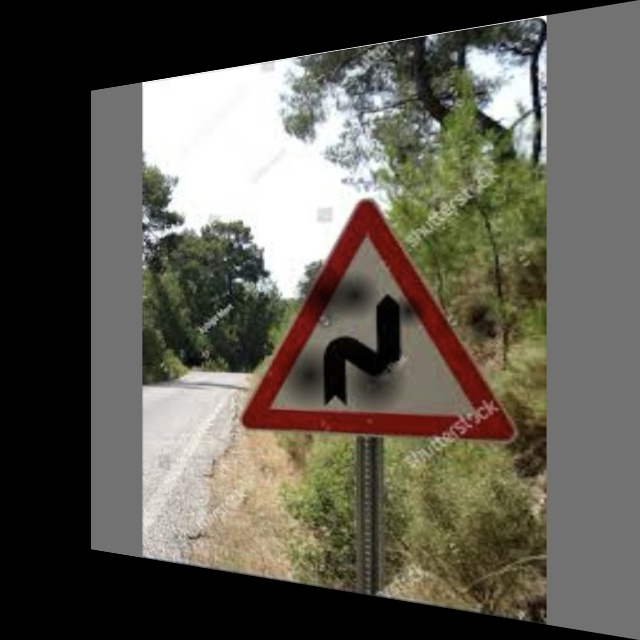Right_Reverse_Bend: (263, 208, 504, 439)
